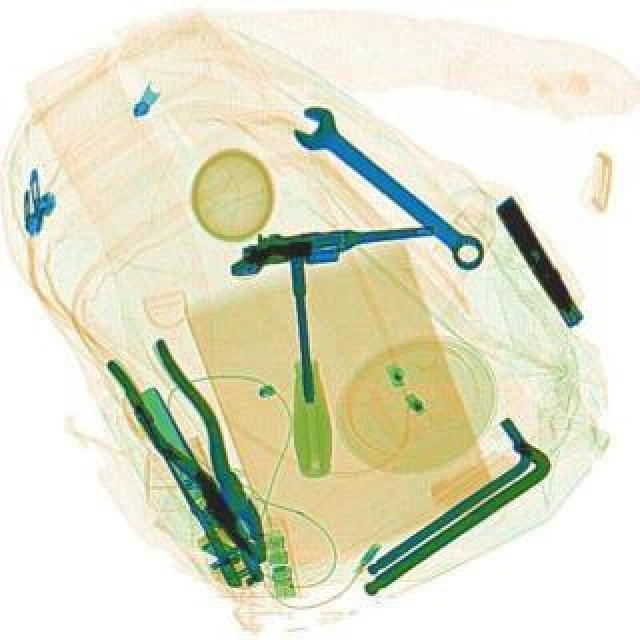gun: (488, 190, 586, 330), (228, 218, 438, 274)
scissors: (280, 96, 492, 282)
wrench: (102, 330, 294, 578)
